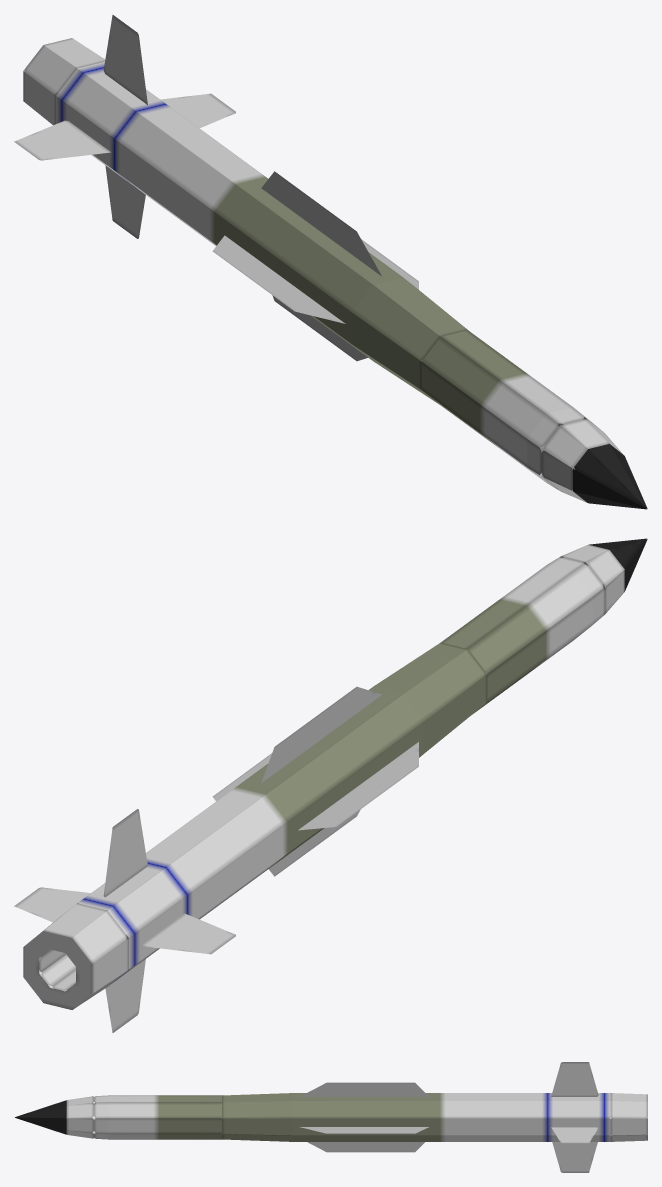
Rendered from pac3.obj.
3 renders of one model, top to bottom at view 1: azimuth 30°, elevation 25°; view 2: azimuth 150°, elevation 25°; view 3: azimuth 270°, elevation 25°, orthographic. The views are drawn at different scales.
Visible parts, largest first — view 1: cylinder1, cylinder31, plane1, plane15, tube, cylinder4, cylinder3; view 2: cylinder1, cylinder31, tube, plane1, plane15, cylinder3, cylinder4; view 3: cylinder1, cylinder31, plane15, plane1, tube, cylinder3, cylinder4.
Boxes of the visible parts, x1=… form: cylinder1: x1=56, y1=61, x2=468, y2=404; cylinder31: x1=421, y1=330, x2=601, y2=489; plane1: x1=14, y1=15, x2=235, y2=238; plane15: x1=212, y1=171, x2=418, y2=361; tube: x1=23, y1=38, x2=105, y2=125; cylinder4: x1=573, y1=444, x2=647, y2=509; cylinder3: x1=541, y1=418, x2=623, y2=502; cylinder1: x1=77, y1=642, x2=487, y2=985; cylinder31: x1=441, y1=557, x2=605, y2=714; tube: x1=23, y1=903, x2=128, y2=1009; plane1: x1=14, y1=809, x2=235, y2=1032; plane15: x1=212, y1=686, x2=418, y2=876; cylinder3: x1=559, y1=544, x2=624, y2=615; cylinder4: x1=589, y1=538, x2=647, y2=591; cylinder1: x1=222, y1=1093, x2=610, y2=1141; cylinder31: x1=94, y1=1095, x2=221, y2=1139; plane15: x1=300, y1=1082, x2=428, y2=1152; plane1: x1=551, y1=1062, x2=598, y2=1172; tube: x1=610, y1=1093, x2=647, y2=1141; cylinder3: x1=66, y1=1096, x2=93, y2=1138; cylinder4: x1=15, y1=1100, x2=66, y2=1134.
Bounding box in the file's own units: 1.35 × 1.35 × 6.99.
